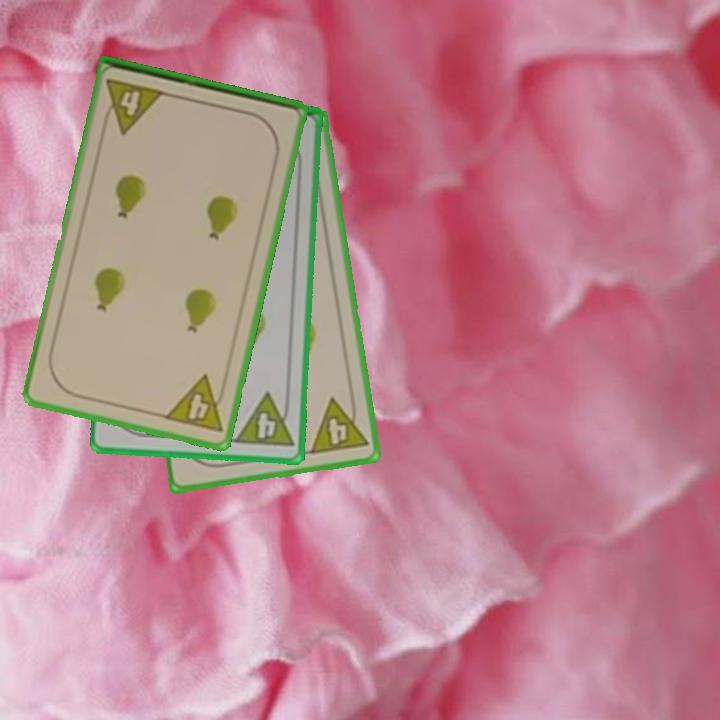4p: (160, 371, 231, 436), (306, 392, 371, 458), (99, 75, 168, 137), (231, 389, 296, 451)
